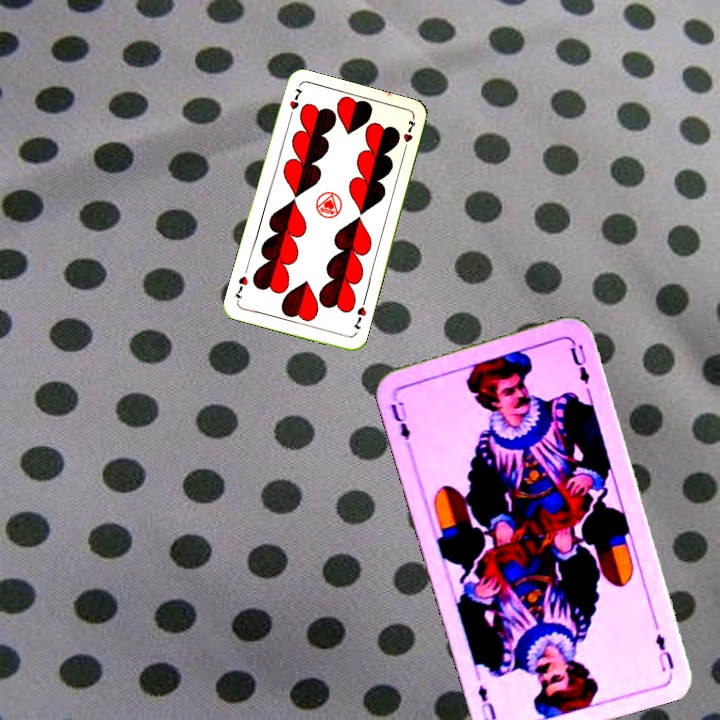EU: (386, 392, 416, 450), (651, 630, 676, 674)
H7: (284, 83, 306, 122), (349, 302, 369, 332)
